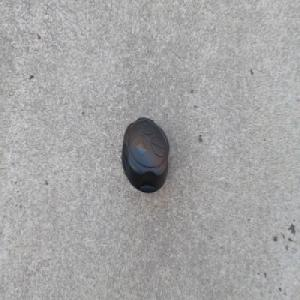FuelCap: (120, 112, 173, 196)
